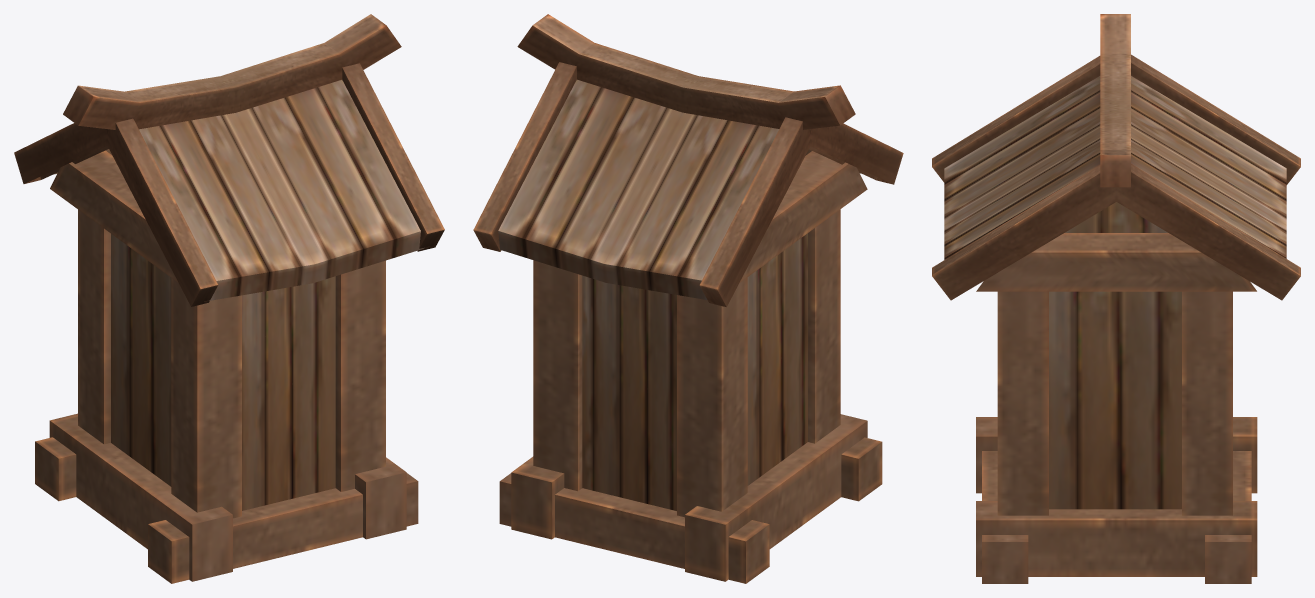
Rendered from FB_CunLuo_Fangwu05.FBX.
3 renders of one model, left to right at view 1: azimuth 30°, elevation 25°; view 2: azimuth 150°, elevation 25°; view 3: azimuth 270°, elevation 25°, orthographic.
Parts seen in each view (by area): view 1: Box05; view 2: Box05; view 3: Box05.
Boxes of the visible parts, left/top/right/bottom form: Box05: left=14, top=14, right=444, bottom=583; Box05: left=473, top=14, right=903, bottom=583; Box05: left=932, top=14, right=1300, bottom=583.
Size of the model in its own units: 3.58 by 4.74 by 3.58.
